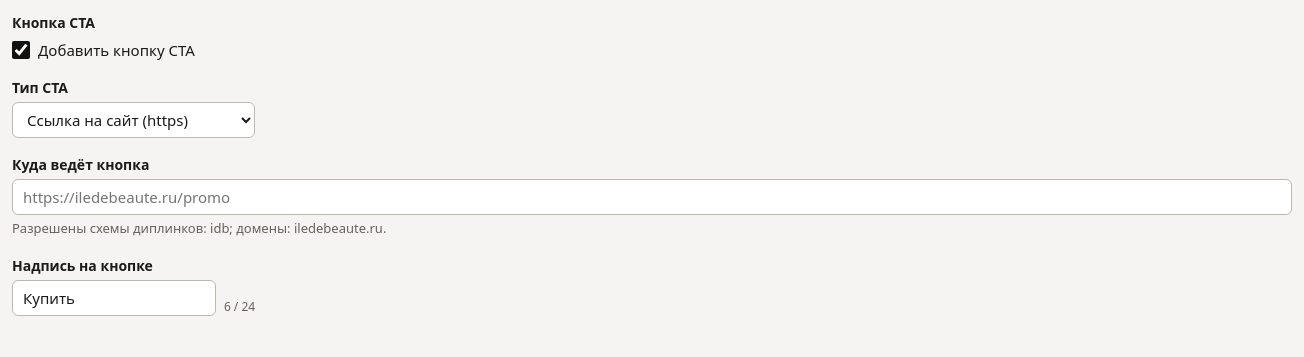
Test: CTA: проверка по allowlist › http://iledebeaute.ru/ — ошибка
The width and height of the screenshot is (1304, 357).
Type "http://iledebeaute.ru/" into the field labelled "Куда ведёт кнопка" at [652, 197], box [12,179,1292,215]
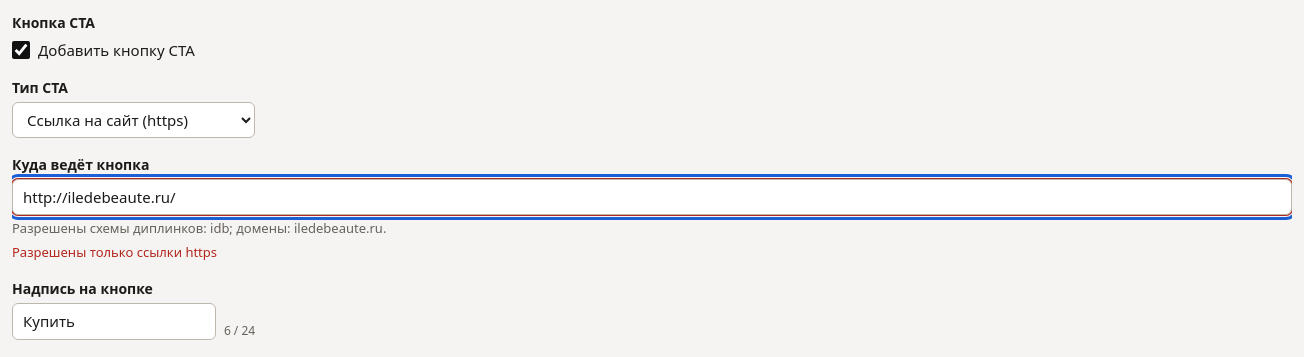
expect the message reads "Разрешены только ссылки https": met, box [12,243,217,261]
